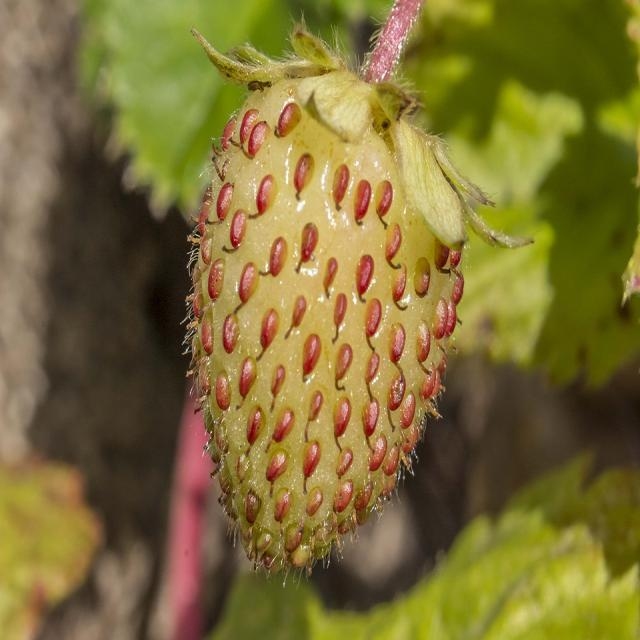immature: (188, 58, 469, 578)
